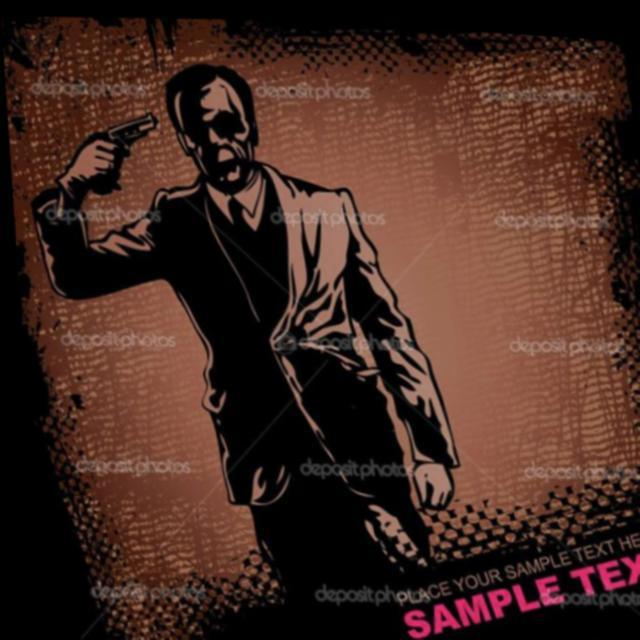weapon: (68, 102, 168, 207)
